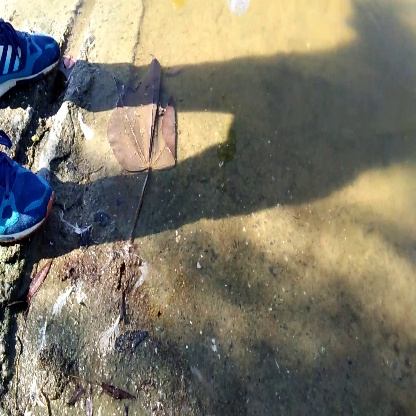leaf: (105, 57, 185, 243)
